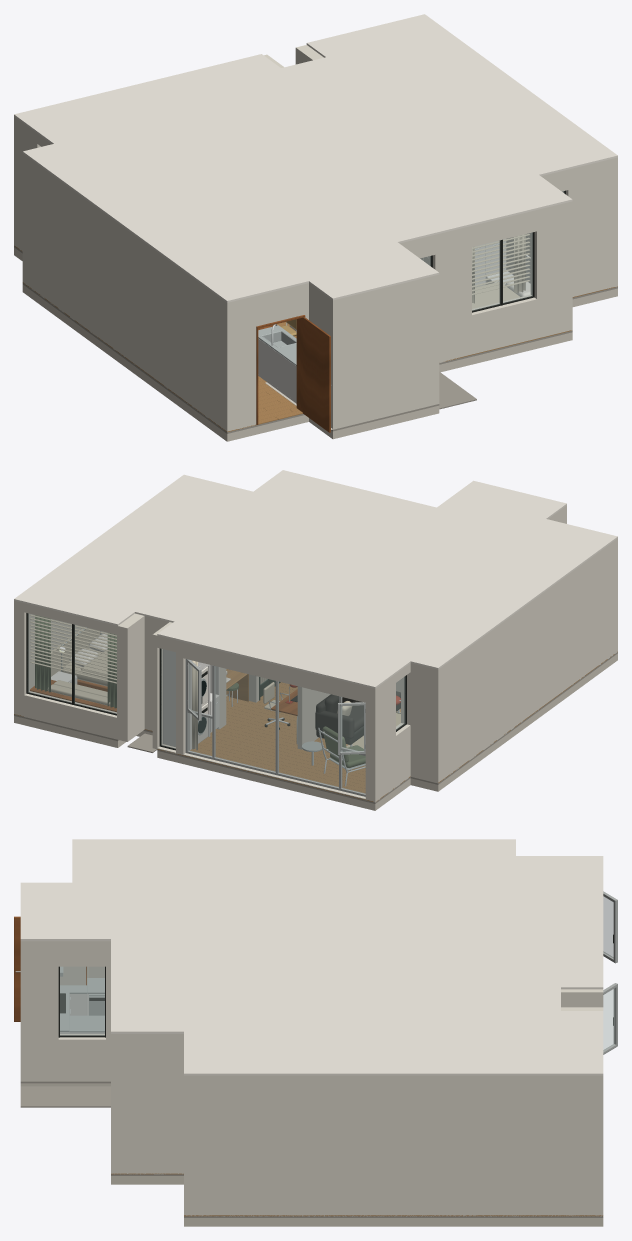
File: home-model-600.glb
3 renders of one model, top to bottom at view 1: azimuth 30°, elevation 25°; view 2: azimuth 150°, elevation 25°; view 3: azimuth 270°, elevation 25°, orthographic. The views are drawn at different scales.
Parts seen in each view (by area): view 1: 全屋顶面, CAD墙体_36, CAD墙体_86, CAD墙体_01, CAD墙体_02, 完整户型基座, CAD墙体_04, CAD墙体_35, CAD墙体_05, CAD墙体_83, CAD墙体_20, 入户门 (+27 smaller); view 2: 全屋顶面, Floor_shared_温润橡木地板, CAD墙体_36, CAD墙体_86, 阳台F2中央固定玻璃, 阳台F1中央固定玻璃, CAD墙体_02, 完整户型基座, CAD墙体_01, 主卧窗玻璃.001, 主卧窗玻璃, CAD墙体_05 (+34 smaller); view 3: 全屋顶面, CAD墙体_43, CAD墙体_01, CAD墙体_04, CAD墙体_86, CAD墙体_26, 完整户型基座, CAD墙体_83, CAD墙体_34, 厨房窗玻璃, CAD墙体_40, CAD墙体_85 (+23 smaller).
Part boxes in pixels (x1=…): 全屋顶面: x1=14, y1=14, x2=617, y2=302; CAD墙体_36: x1=22, y1=190, x2=256, y2=373; CAD墙体_86: x1=14, y1=45, x2=617, y2=313; CAD墙体_01: x1=289, y1=262, x2=617, y2=428; CAD墙体_02: x1=14, y1=221, x2=256, y2=430; 完整户型基座: x1=14, y1=247, x2=617, y2=441; CAD墙体_04: x1=331, y1=248, x2=617, y2=404; CAD墙体_35: x1=308, y1=311, x2=439, y2=371; CAD墙体_05: x1=14, y1=207, x2=256, y2=407; CAD墙体_83: x1=22, y1=61, x2=617, y2=321; CAD墙体_20: x1=14, y1=193, x2=256, y2=390; 入户门: x1=303, y1=317, x2=330, y2=432; 全屋顶面: x1=14, y1=470, x2=617, y2=688; Floor_shared_温润橡木地板: x1=14, y1=651, x2=617, y2=801; CAD墙体_36: x1=401, y1=570, x2=617, y2=731; CAD墙体_86: x1=14, y1=505, x2=617, y2=697; 阳台F2中央固定玻璃: x1=215, y1=666, x2=275, y2=771; 阳台F1中央固定玻璃: x1=278, y1=682, x2=338, y2=787; CAD墙体_02: x1=365, y1=630, x2=617, y2=801; 完整户型基座: x1=14, y1=653, x2=617, y2=810; CAD墙体_01: x1=14, y1=680, x2=258, y2=747; 主卧窗玻璃.001: x1=28, y1=613, x2=71, y2=702; 主卧窗玻璃: x1=74, y1=625, x2=116, y2=713; CAD墙体_05: x1=365, y1=618, x2=617, y2=780; 全屋顶面: x1=20, y1=839, x2=603, y2=1075; CAD墙体_43: x1=184, y1=1115, x2=603, y2=1152; CAD墙体_01: x1=20, y1=1054, x2=603, y2=1214; CAD墙体_04: x1=20, y1=1034, x2=603, y2=1189; CAD墙体_86: x1=20, y1=941, x2=603, y2=1086; CAD墙体_26: x1=184, y1=1159, x2=603, y2=1171; 完整户型基座: x1=20, y1=1083, x2=603, y2=1226; CAD墙体_83: x1=20, y1=956, x2=603, y2=1095; CAD墙体_34: x1=184, y1=1152, x2=603, y2=1159; 厨房窗玻璃: x1=60, y1=967, x2=104, y2=1035; CAD墙体_40: x1=111, y1=1073, x2=183, y2=1110; CAD墙体_85: x1=20, y1=952, x2=603, y2=1090.
Size of the model in its own units: 9.73 by 2.96 by 10.6.
Materials: 33 (3 with a texture image).
